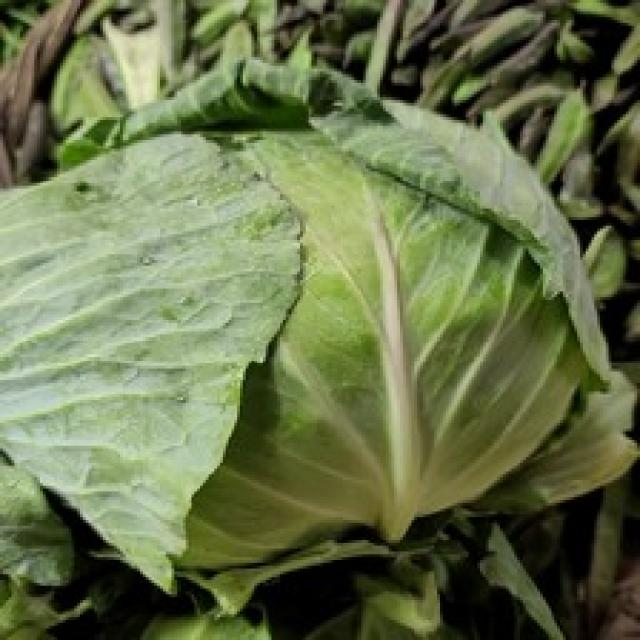Cabbage: (0, 113, 586, 588)
